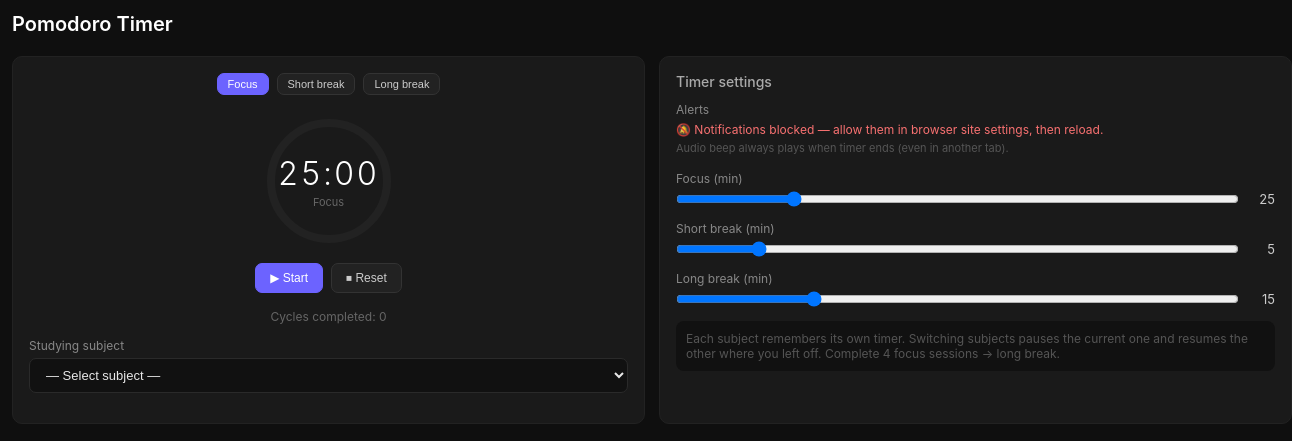
Scenario: Pomodoro › reset returns to full time
Click the button "▶ Start": [289, 278] box [255,263,323,293]
Wait 10000 ms
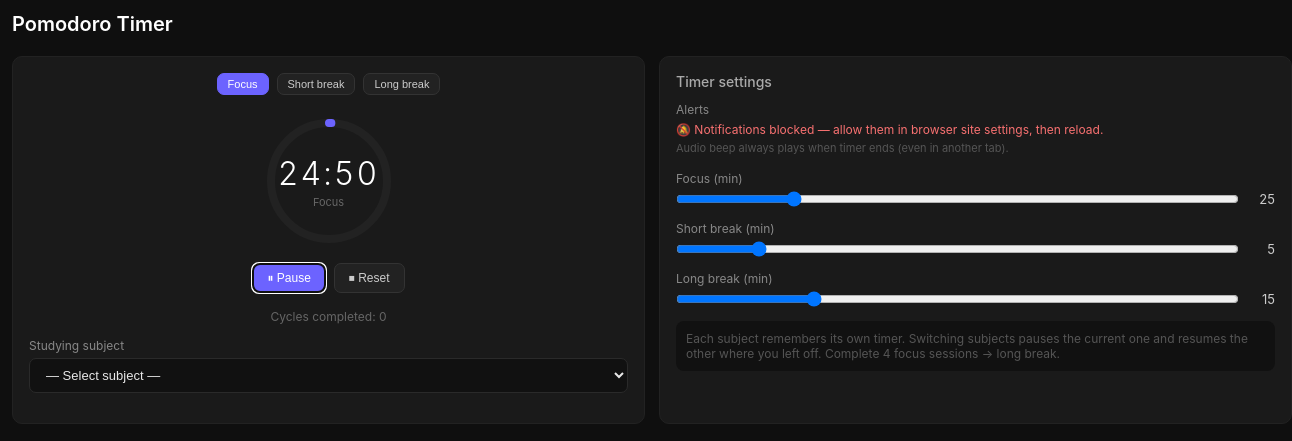
Click the button "⏹ Reset": [369, 278] box [334,263,404,293]
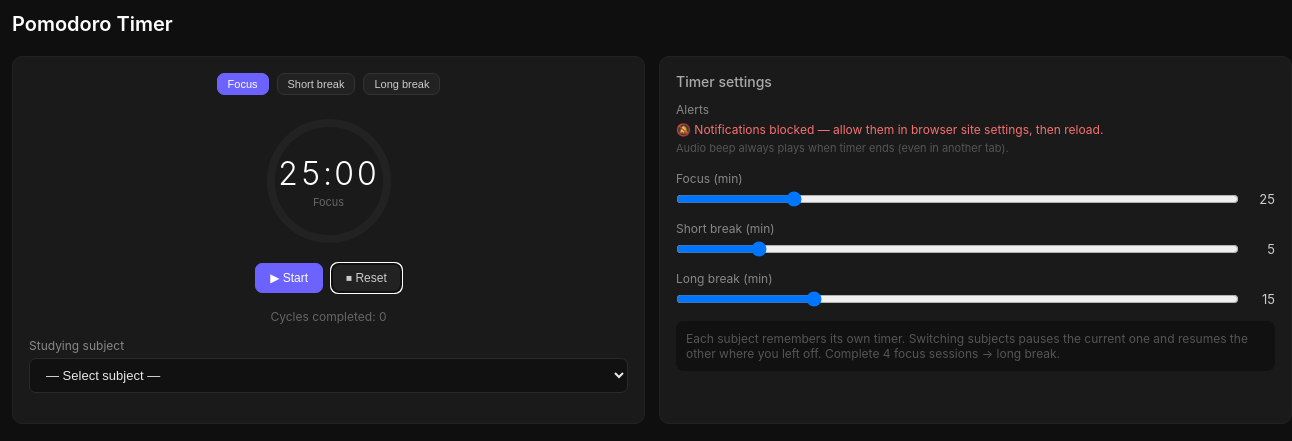
Now the text "25:00" is shown, box [278,154,379,192]
